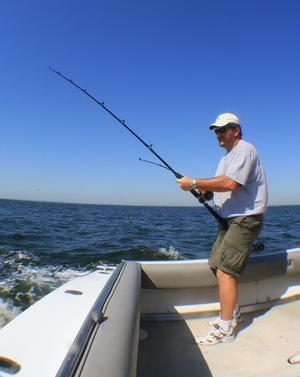person: (176, 113, 268, 346)
